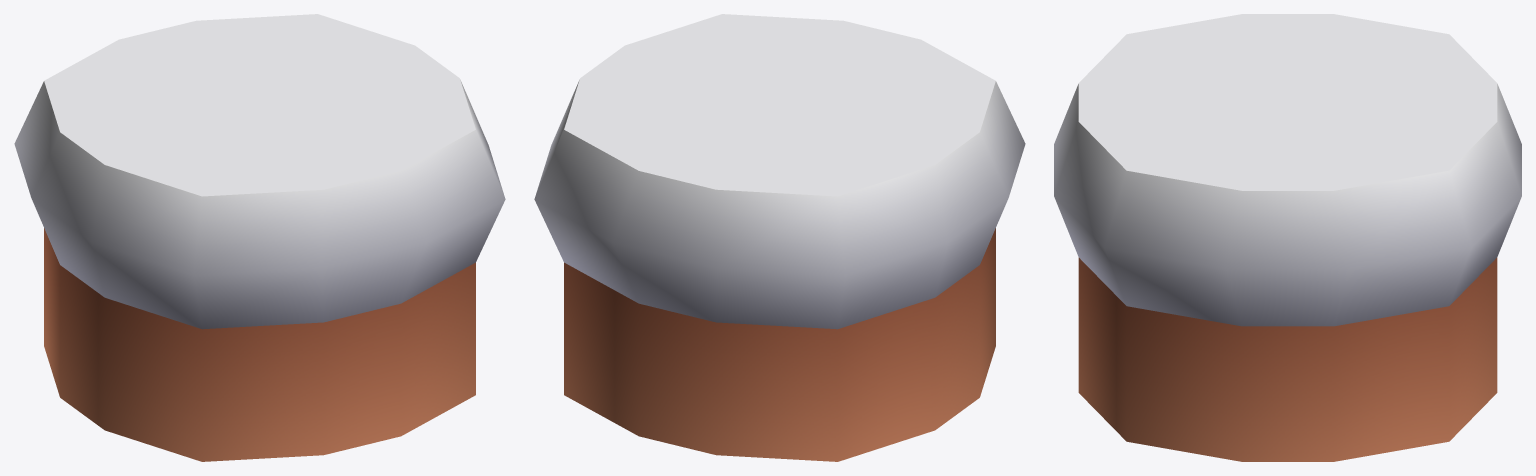
File: block-snow-low-narrow.glb
3 views of the same model, side by side, from view 1: azimuth 30°, elevation 25°; view 2: azimuth 150°, elevation 25°; view 3: azimuth 270°, elevation 25° (orthographic). The views are drawn at different scales.
Parts seen in each view (by area): view 1: block-snow-low-narrow; view 2: block-snow-low-narrow; view 3: block-snow-low-narrow.
Boxes of the visible parts, box(x1,y1,x2,y2) form: block-snow-low-narrow: box(14, 14, 505, 461); block-snow-low-narrow: box(534, 14, 1025, 461); block-snow-low-narrow: box(1054, 14, 1521, 461).
Size of the model in its own units: 0.7821 by 0.5 by 0.7821.
1 material, 1 textured.
